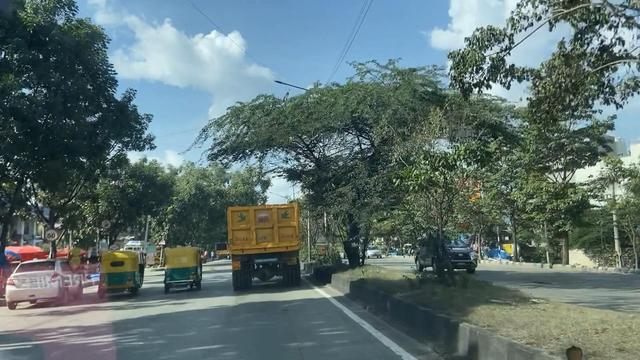HMV: (227, 200, 305, 295)
LMV: (99, 244, 147, 299), (22, 258, 84, 299), (164, 243, 202, 287)
